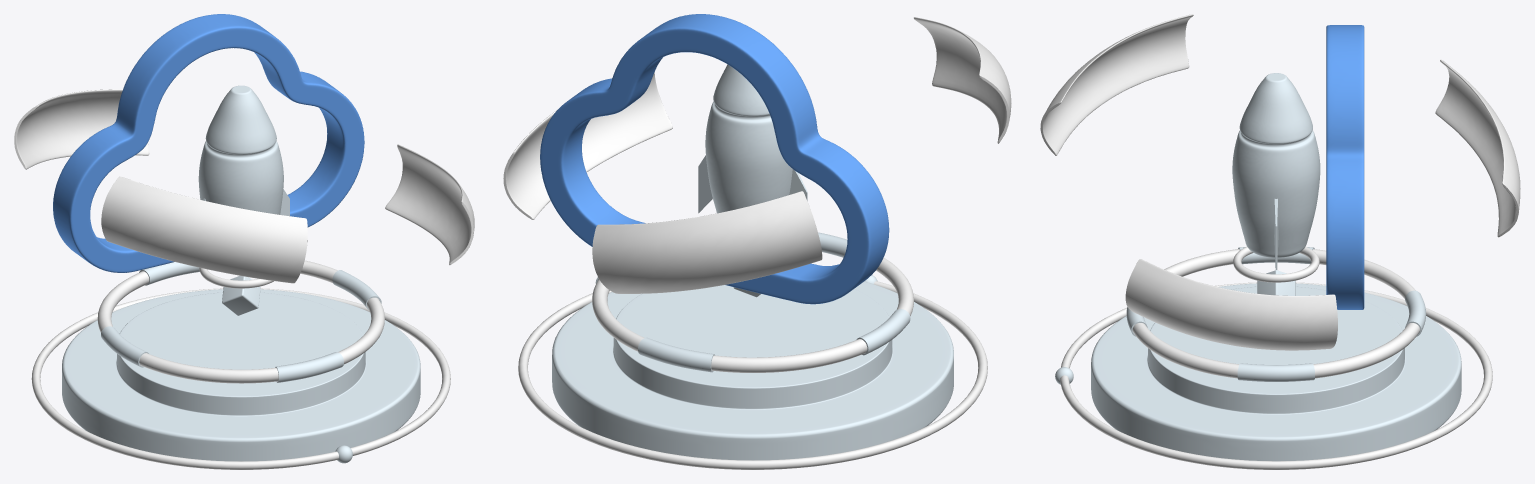
File: 腾讯云-p-4ade1840.glb
3 renders of one model, left to right at view 1: azimuth 30°, elevation 25°; view 2: azimuth 150°, elevation 25°; view 3: azimuth 270°, elevation 25°, orthographic. The views are drawn at different scales.
Parts seen in each view (by area): view 1: 底座, 玻璃矩形, 云, 玻璃圆环-底座, 火箭, 玻璃圆环-大-金属, 中间小立方体; view 2: 底座, 云, 玻璃矩形, 玻璃圆环-底座, 火箭, 玻璃圆环-大-金属, Cube; view 3: 底座, 玻璃矩形, 玻璃圆环-底座, 火箭, 云, 玻璃圆环-大-金属, 中间小立方体.
Part boxes in pixels (bbox=[...]): 底座: bbox=[62, 289, 420, 461]; 玻璃矩形: bbox=[14, 89, 474, 283]; 云: bbox=[53, 14, 364, 272]; 玻璃圆环-底座: bbox=[31, 260, 450, 469]; 火箭: bbox=[198, 85, 283, 214]; 玻璃圆环-大-金属: bbox=[101, 262, 381, 382]; 中间小立方体: bbox=[222, 275, 260, 315]; 底座: bbox=[552, 281, 953, 460]; 云: bbox=[540, 14, 889, 304]; 玻璃矩形: bbox=[503, 17, 1011, 293]; 玻璃圆环-底座: bbox=[518, 257, 987, 469]; 火箭: bbox=[705, 64, 792, 213]; 玻璃圆环-大-金属: bbox=[595, 232, 910, 372]; Cube: bbox=[698, 155, 807, 213]; 底座: bbox=[1091, 283, 1461, 461]; 玻璃矩形: bbox=[1040, 14, 1520, 350]; 玻璃圆环-底座: bbox=[1060, 246, 1492, 469]; 火箭: bbox=[1232, 73, 1320, 257]; 云: bbox=[1326, 25, 1364, 309]; 玻璃圆环-大-金属: bbox=[1126, 247, 1426, 381]; 中间小立方体: bbox=[1257, 270, 1295, 295].
Bounding box in the file's own units: 4.91 × 4.25 × 5.15.
